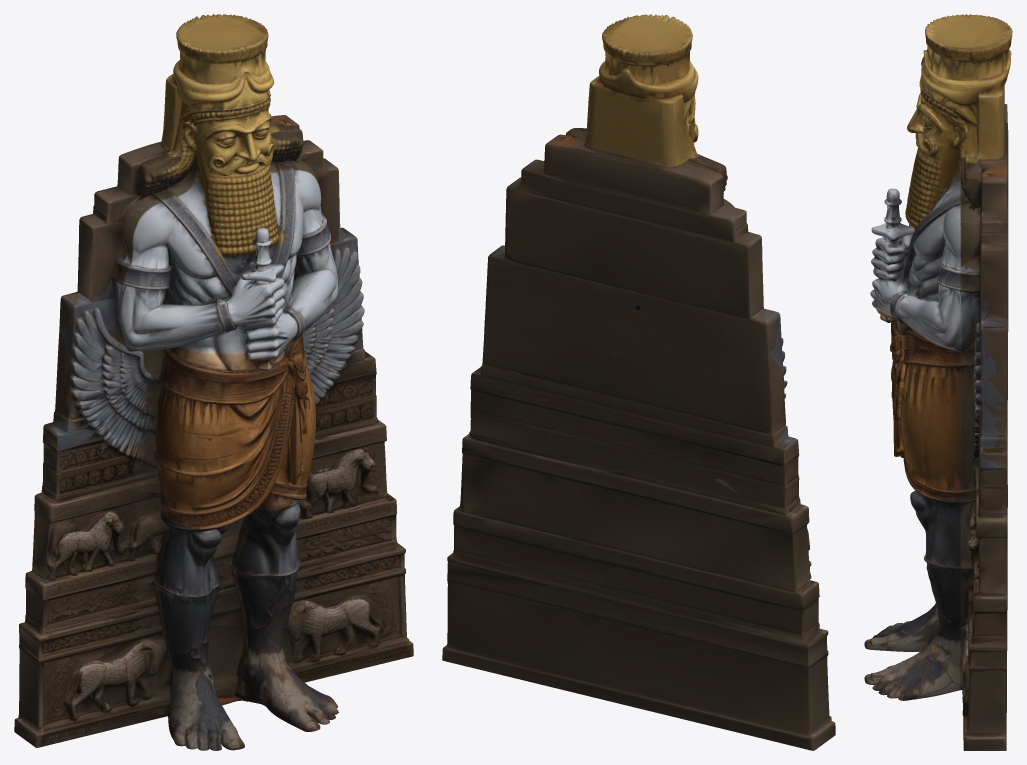
Rendered from statue_v11o_lod.glb.
3 renders of one model, left to right at view 1: azimuth 30°, elevation 25°; view 2: azimuth 150°, elevation 25°; view 3: azimuth 270°, elevation 25°, orthographic. The views are drawn at different scales.
Visible parts, largest first — view 1: backer_stone, chest_silver, belly_bronze, head_gold, legs_iron, feet_clay; view 2: backer_stone, head_gold; view 3: backer_stone, head_gold, chest_silver, belly_bronze, feet_clay, legs_iron.
Boxes of the visible parts, bbox=[...] form: backer_stone: bbox=[14, 115, 413, 747]; chest_silver: bbox=[120, 142, 337, 359]; belly_bronze: bbox=[155, 322, 315, 529]; head_gold: bbox=[161, 14, 289, 261]; legs_iron: bbox=[158, 500, 300, 663]; feet_clay: bbox=[167, 640, 338, 750]; backer_stone: bbox=[442, 128, 835, 750]; head_gold: bbox=[585, 14, 699, 165]; backer_stone: bbox=[960, 104, 1008, 750]; head_gold: bbox=[905, 14, 1012, 233]; chest_silver: bbox=[870, 176, 960, 351]; belly_bronze: bbox=[876, 309, 960, 500]; feet_clay: bbox=[864, 603, 960, 700]; legs_iron: bbox=[910, 490, 960, 633].
Bounding box in the file's own units: 0.5902 × 1 × 0.2117.
1 material, 1 textured.
